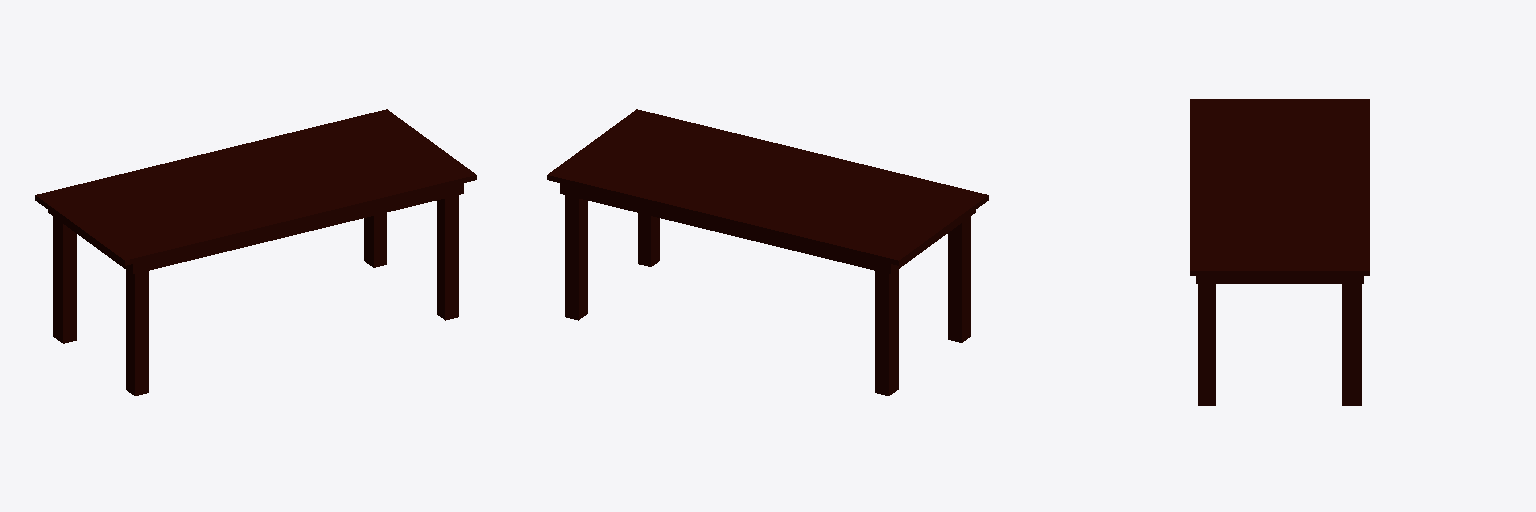
File: table.obj
The picture shows the model from 3 angles: view 1: azimuth 30°, elevation 25°; view 2: azimuth 150°, elevation 25°; view 3: azimuth 270°, elevation 25°; orthographic projection.
Visible parts, largest first — view 1: Cube; view 2: Cube; view 3: Cube.
Boxes of the visible parts, x1,y1,x2,y2 form: Cube: [35, 109, 476, 395]; Cube: [547, 109, 988, 395]; Cube: [1190, 99, 1369, 405].
Size of the model in its own units: 55.51 by 21.42 by 24.5.